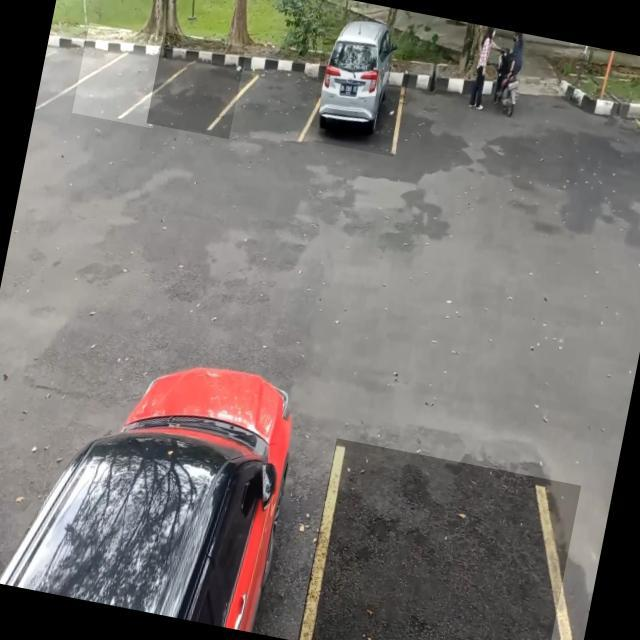empty: (297, 438, 581, 640), (146, 32, 246, 139), (72, 22, 170, 128), (227, 46, 324, 147)
occupied: (304, 40, 413, 157)
